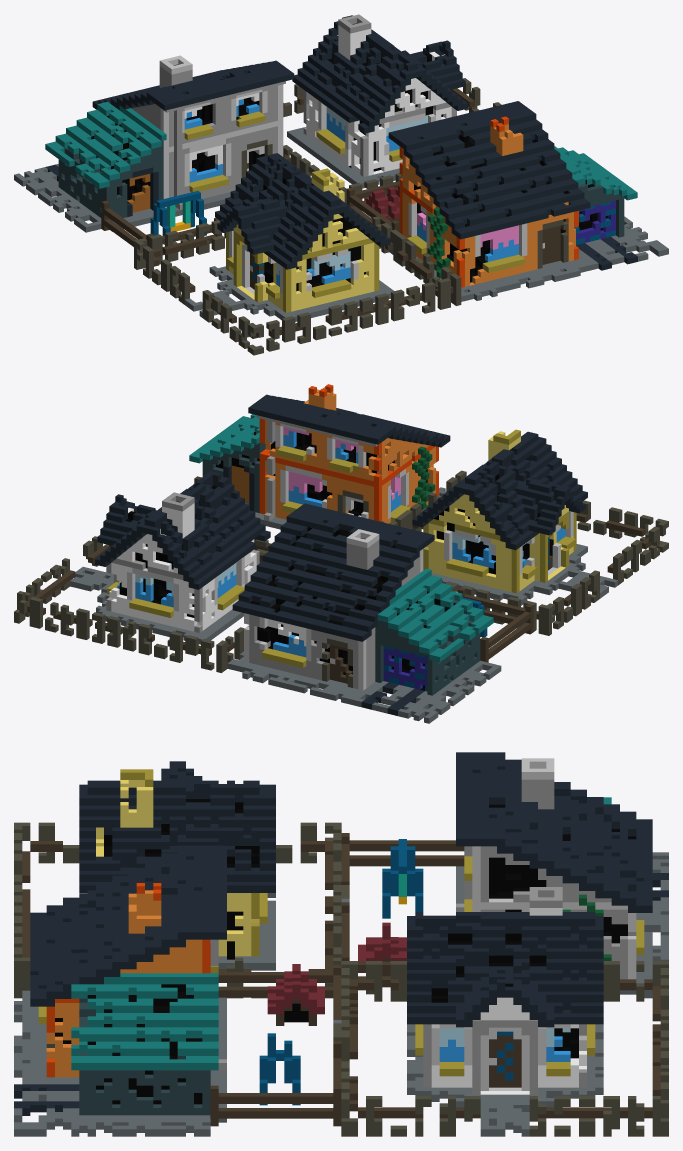
File: building_small_4_damaged.obj
3 views of the same model, one above another, from view 1: azimuth 30°, elevation 25°; view 2: azimuth 150°, elevation 25°; view 3: azimuth 270°, elevation 25° (orthographic). The views are drawn at different scales.
Size of the model in its own units: 8 by 2.3 by 8.
1 material, 1 textured.
